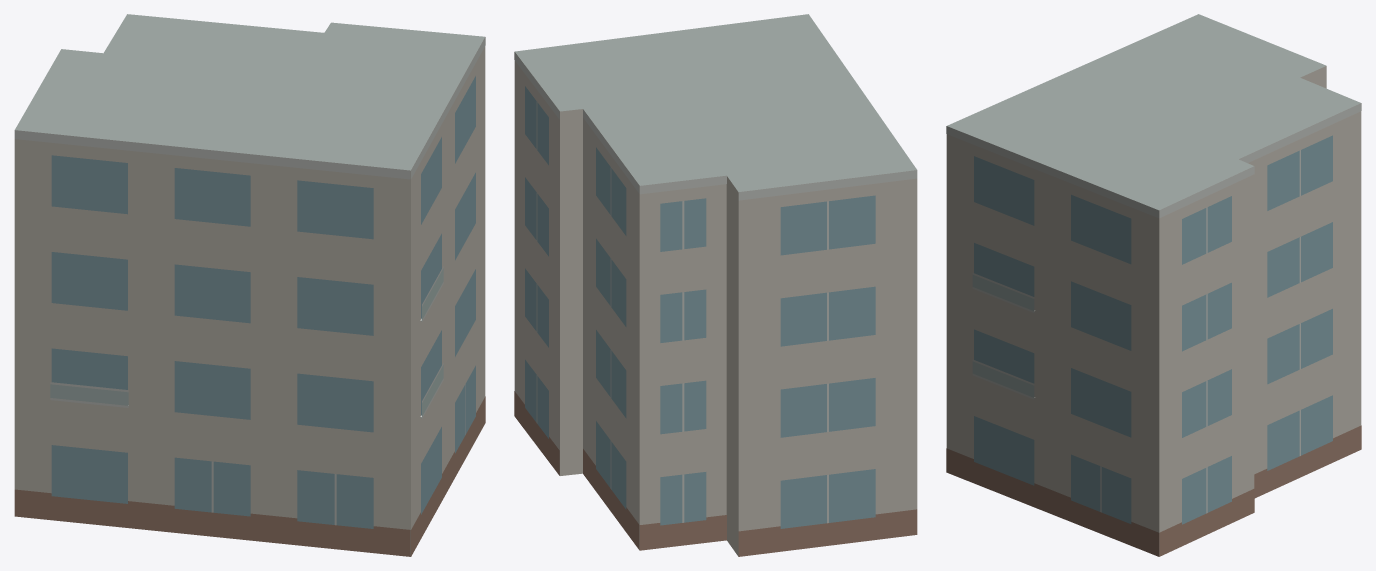
Rendered from survey-upis-32511347.glb.
3 views of the same model, side by side, from view 1: azimuth 30°, elevation 25°; view 2: azimuth 150°, elevation 25°; view 3: azimuth 270°, elevation 25° (orthographic). The views are drawn at different scales.
Visible parts, largest first — view 1: survey-upis-32511347.tmp; view 2: survey-upis-32511347.tmp; view 3: survey-upis-32511347.tmp.
Part boxes in pixels (x1,y1,x2,y2): survey-upis-32511347.tmp: (14,14,485,556); survey-upis-32511347.tmp: (514,14,917,556); survey-upis-32511347.tmp: (946,14,1361,556).
Bounding box in the file's own units: 12.77 × 10.5 × 11.4.
